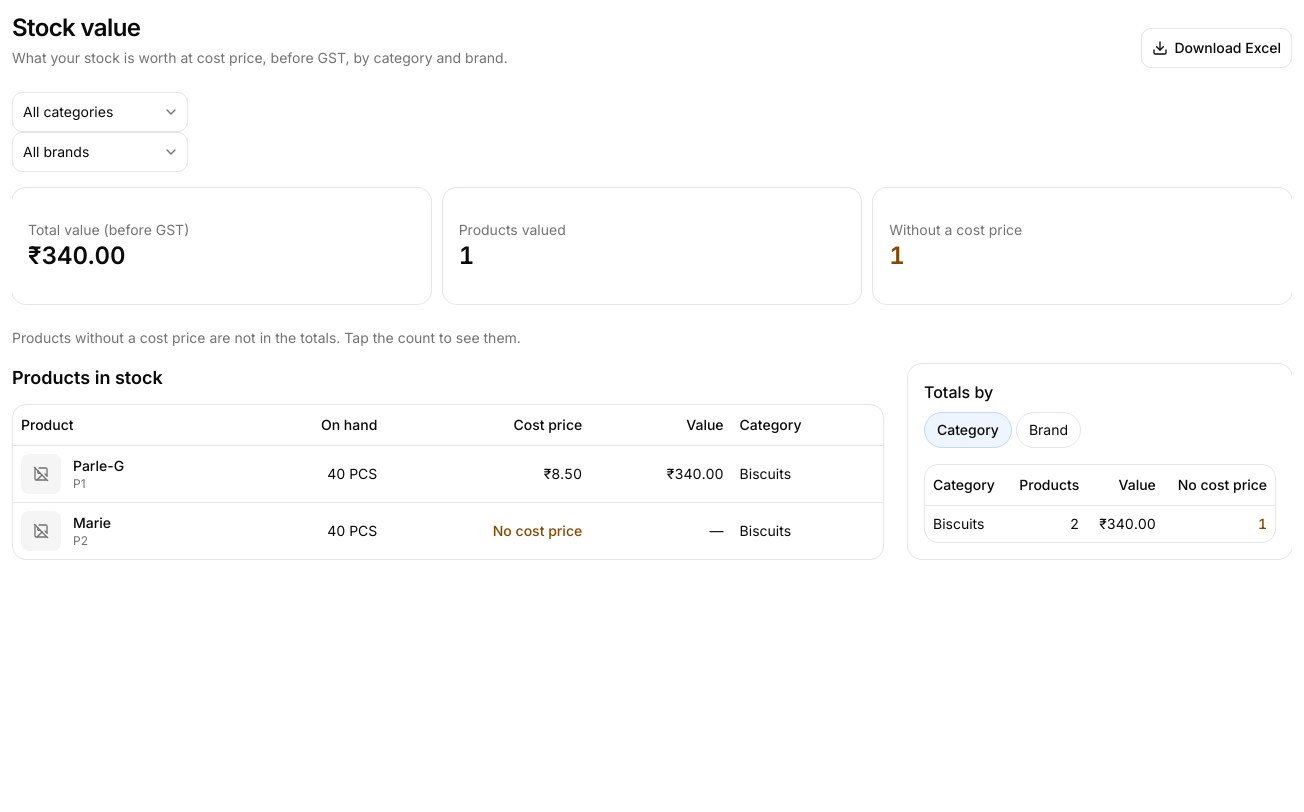
Test case: reports › valuation marks products without a cost and filters to them
Expected: the text "Parle-G" is shown, [73, 456, 124, 476]
Expected: the text "₹340.00" below "Total value (before GST)" is shown, [28, 241, 126, 270]
Click the button "Without a cost price 1". click: (1083, 246)
box: [873, 188, 1292, 304]
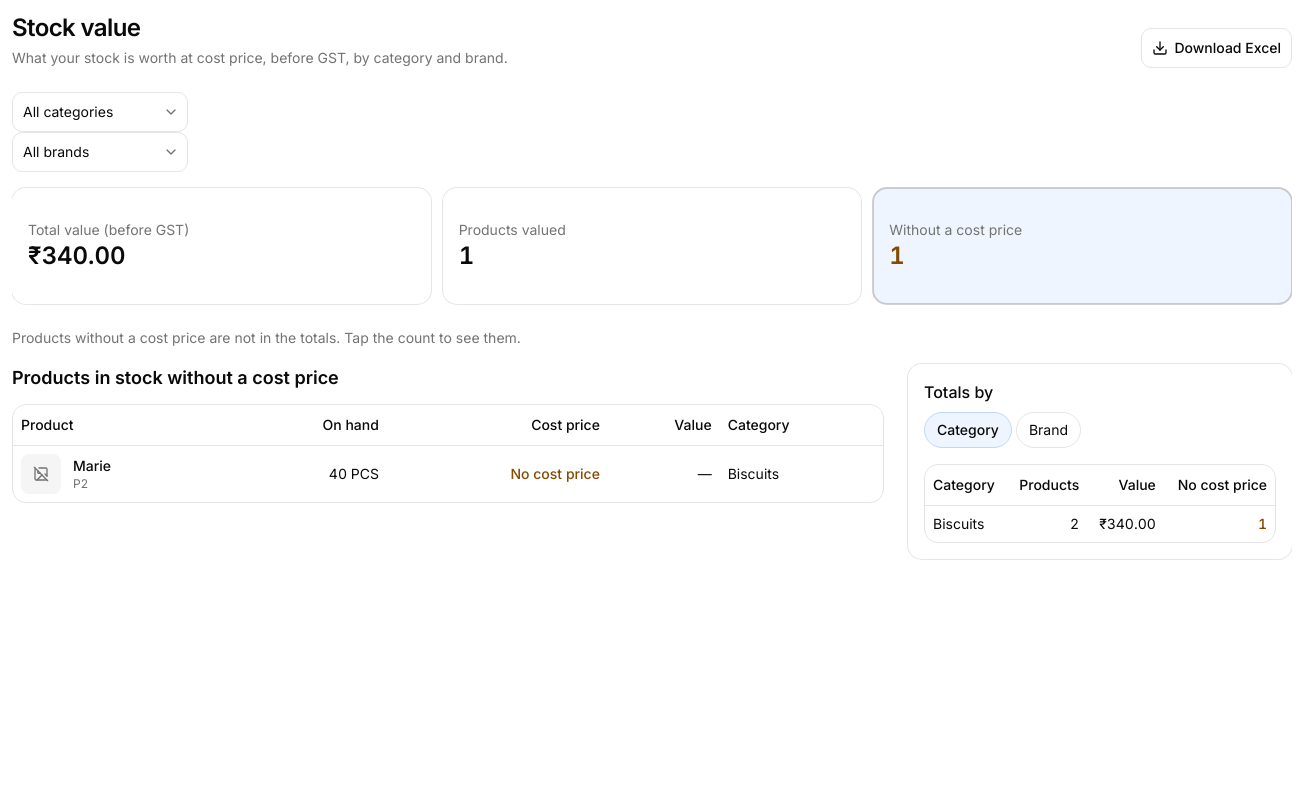
Expected: the link "Parle-G" is gone
Click the tab "Brand". click: (1048, 430)
box: [1016, 412, 1081, 448]
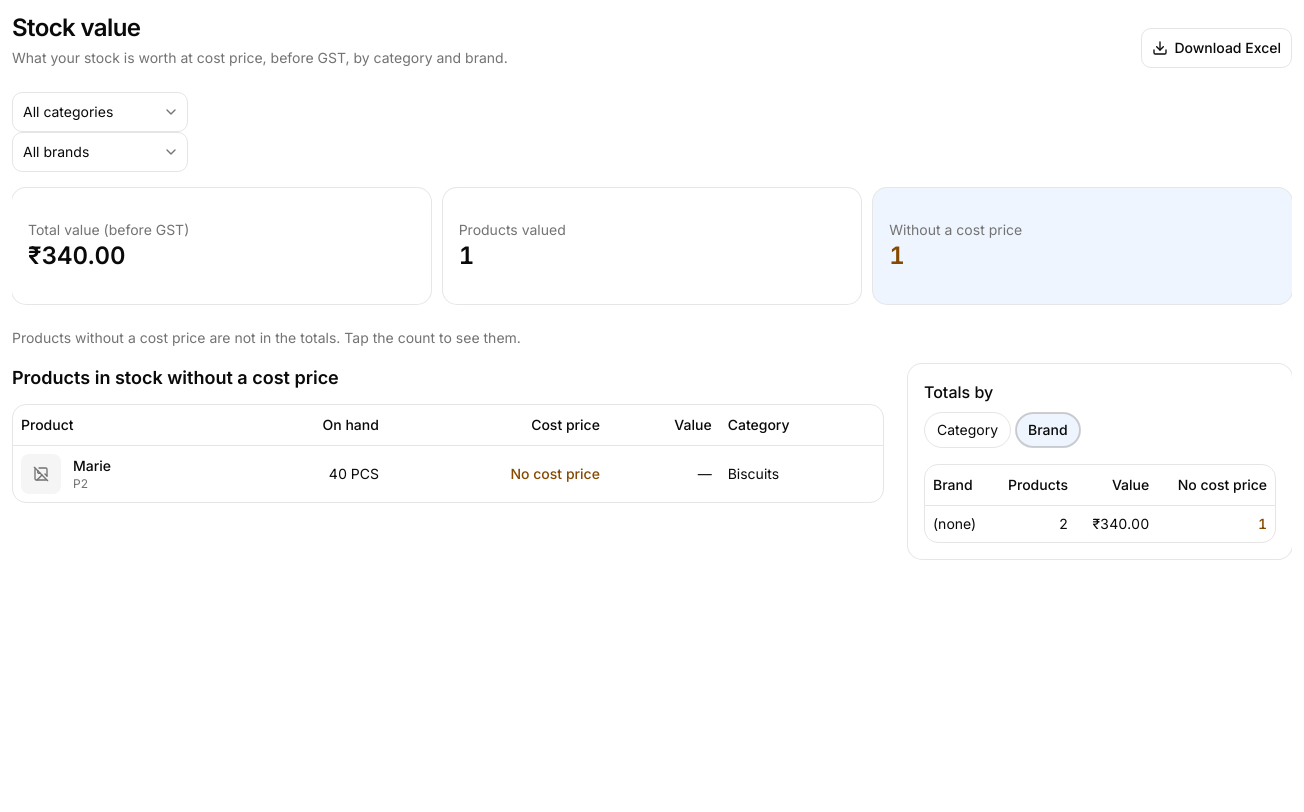
Expected: the text "(none)" is shown, [925, 506, 991, 542]
